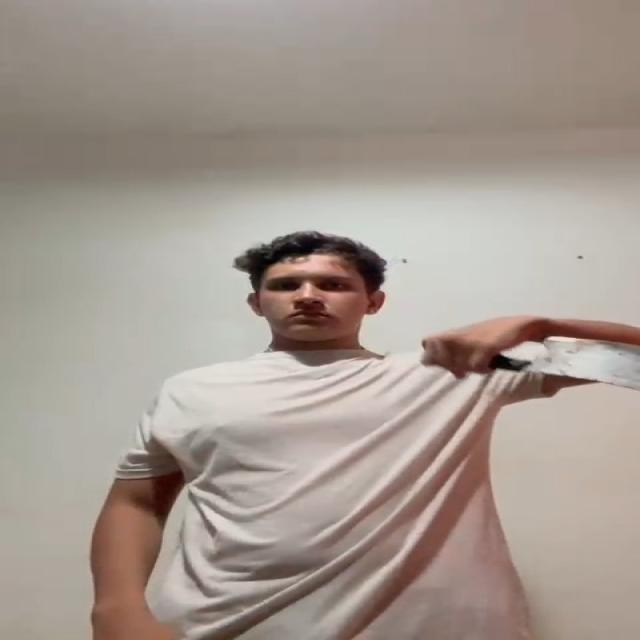knife: (533, 332, 640, 394)
